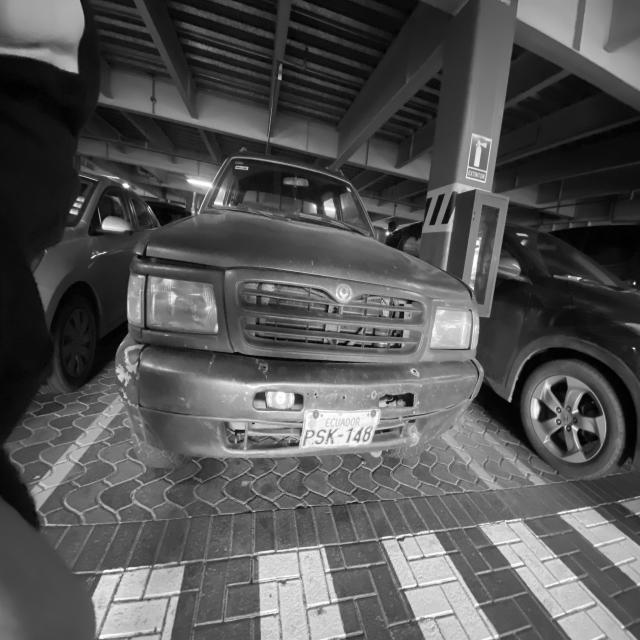Placa: (300, 410, 380, 448)
